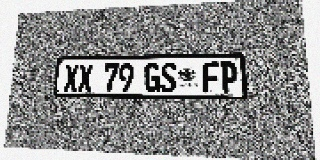7: (103, 63, 119, 92)
9: (118, 63, 134, 92)
F: (203, 62, 220, 93)
G: (144, 63, 160, 92)
P: (220, 62, 238, 93)
S: (160, 62, 176, 92)
X: (63, 64, 79, 92), (78, 64, 93, 92)
